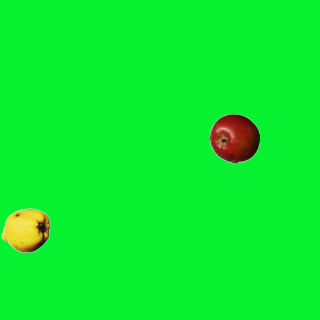Apple Braeburn: (209, 113, 259, 163)
Quince: (0, 205, 50, 255)
